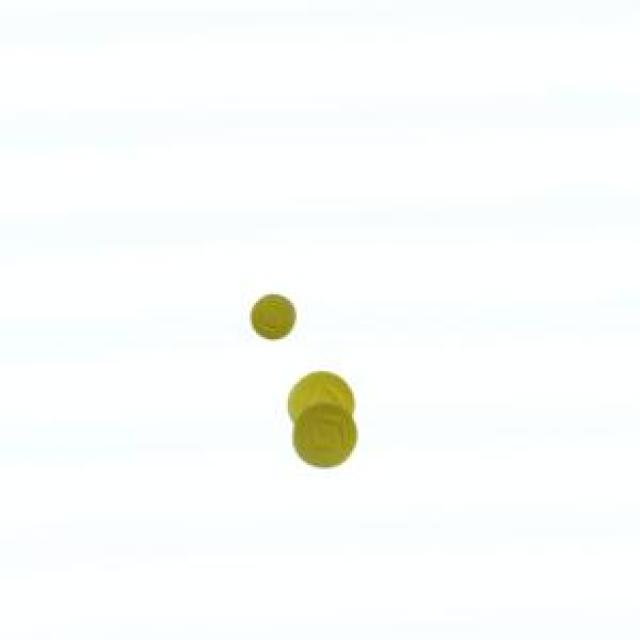Decolgen: (277, 362, 365, 474), (232, 286, 304, 348)
